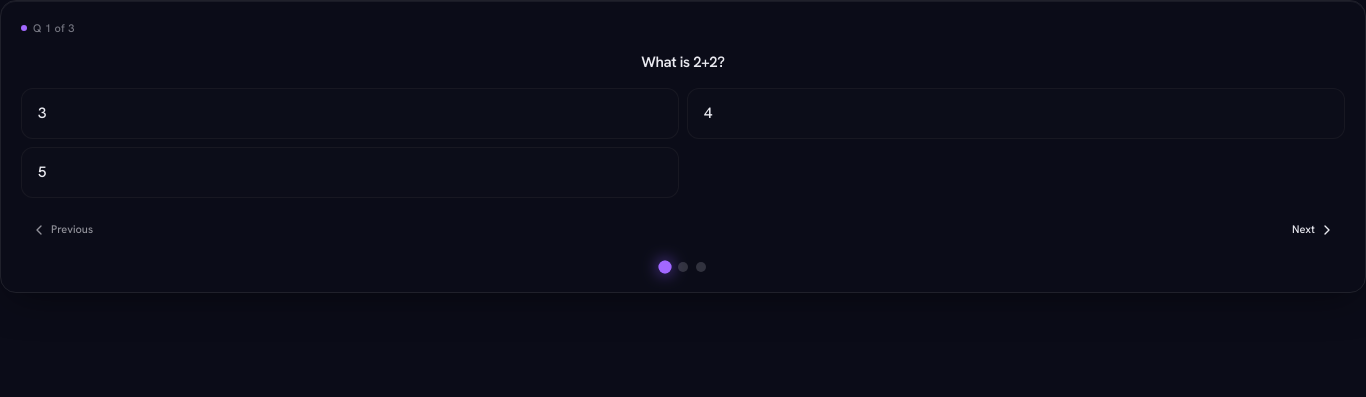
Test: QuizArena › should show explanation after selecting a wrong answer
The image size is (1366, 397).
Click the button "3" at [42, 113], box [21,88,679,139]
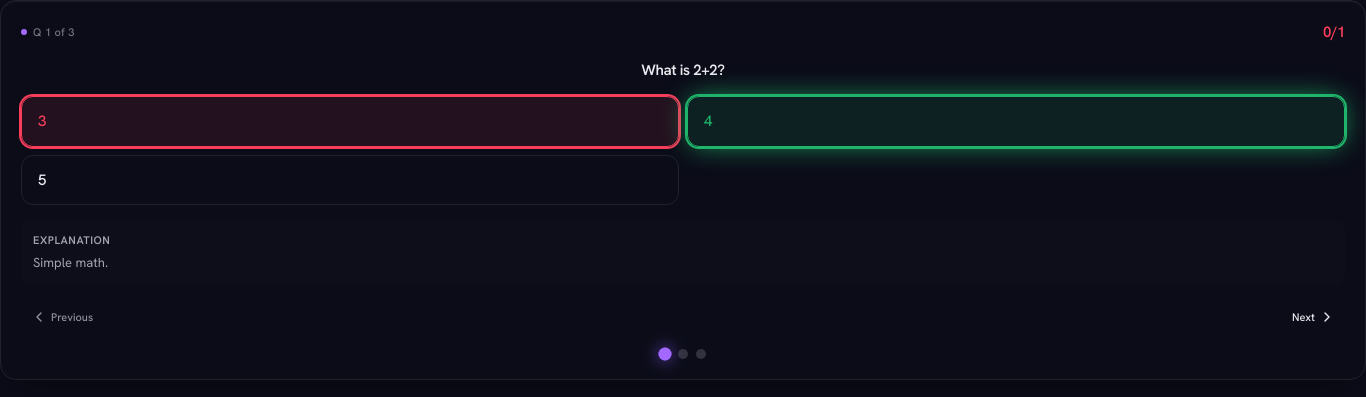
Expected: the text "Simple math." is shown, [33,254,108,271]
